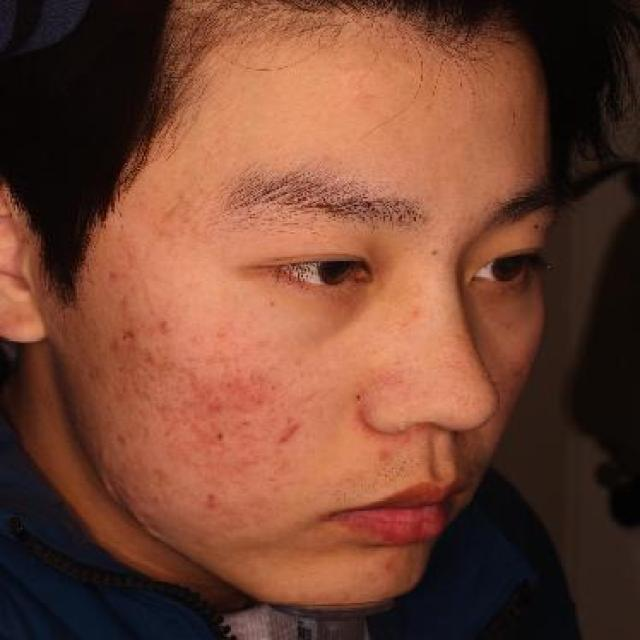dark spot: (98, 297, 147, 365), (106, 405, 159, 460), (230, 360, 278, 414), (157, 423, 219, 462), (140, 465, 187, 509), (267, 408, 306, 455), (221, 415, 265, 454), (190, 488, 228, 523), (147, 352, 187, 383), (205, 318, 238, 349), (149, 309, 176, 345), (96, 262, 128, 292), (79, 363, 111, 385), (368, 446, 399, 463)
papules: (202, 394, 231, 418)
